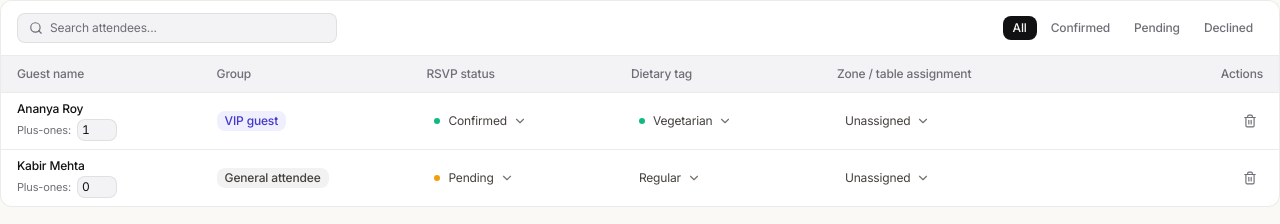
Test: Efficiency, Memoization & Debounced Storage Persistence › Calculation & Filter Memoization › renders GuestTable with memoized search query filtering
Expected: the text "Ananya Roy" is shown, [17,101,83,116]
Expected: the text "Kabir Mehta" is shown, [17,158,85,173]
// Search filtering
Type "Ananya" into the field with placeholder "Search attendees...".
click(177, 28); type("Ananya")  # box [17,13,337,43]
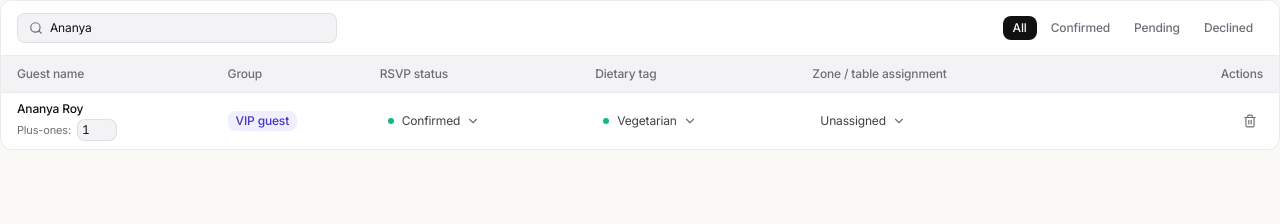
Expected: the text "Ananya Roy" is shown, [17,101,83,116]
Result: the text "Kabir Mehta" is gone
